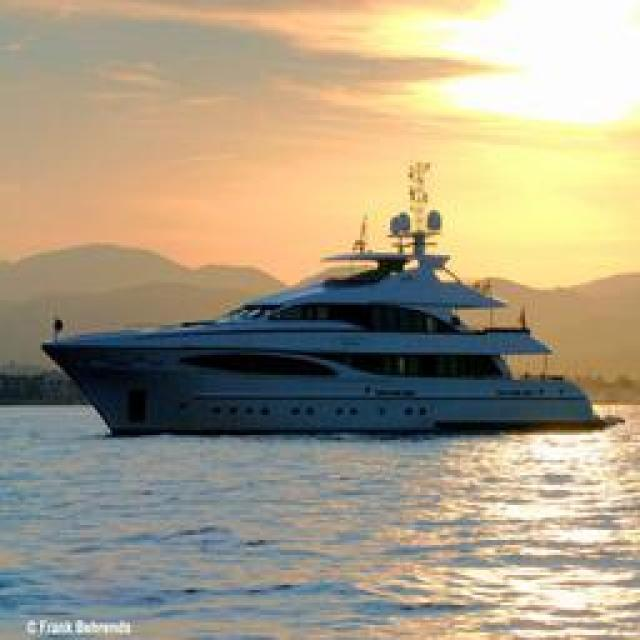ship2: (40, 162, 604, 442)
